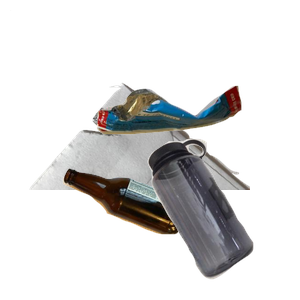glass: (60, 166, 241, 300)
paper: (10, 10, 250, 190)
plastic: (145, 136, 300, 300)
trash: (94, 83, 300, 210)
